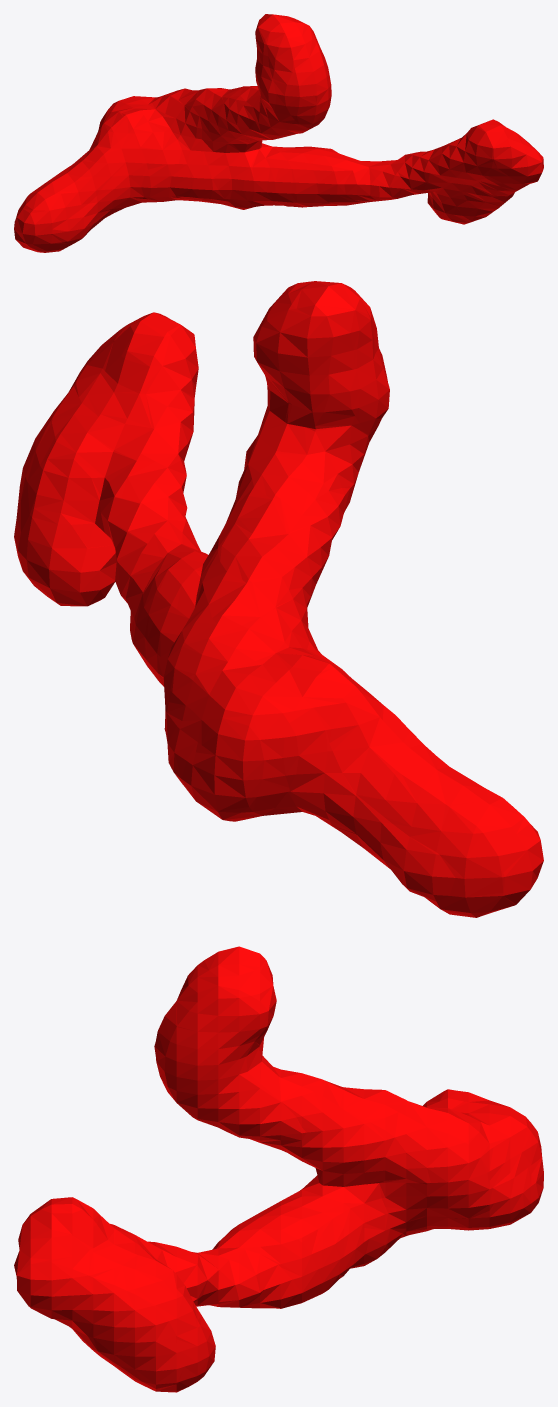
The model's file is mscL_coarse.dae.
3 views of the same model, one above another, from view 1: azimuth 30°, elevation 25°; view 2: azimuth 150°, elevation 25°; view 3: azimuth 270°, elevation 25° (orthographic). The views are drawn at different scales.
Visible parts, largest first — view 1: mscL; view 2: mscL; view 3: mscL.
Part boxes in pixels (<box>): mscL: <box>14,14,543,252</box>; mscL: <box>14,281,543,917</box>; mscL: <box>14,946,543,1392</box>.
Size of the model in its own units: 90.71 by 56.6 by 75.59.
